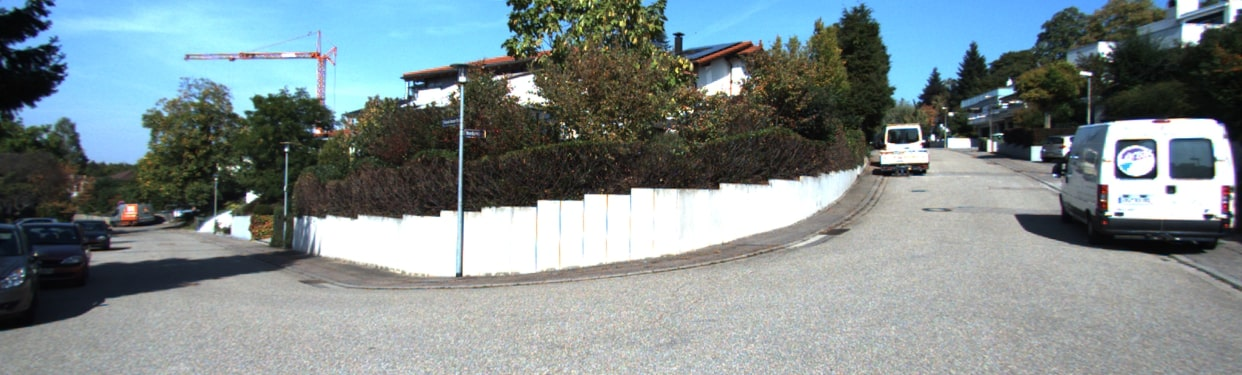car: (1063, 120, 1227, 229), (30, 226, 87, 285), (1, 224, 30, 326), (884, 119, 927, 179), (73, 213, 109, 246)
